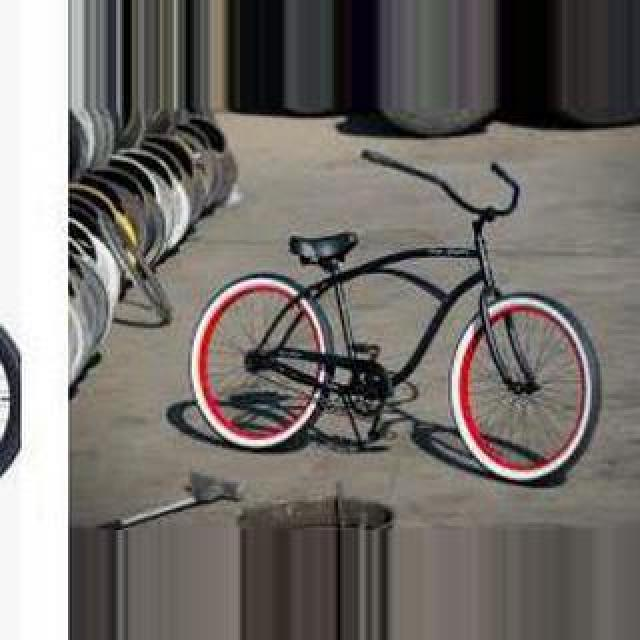Person: (189, 149, 607, 487)
